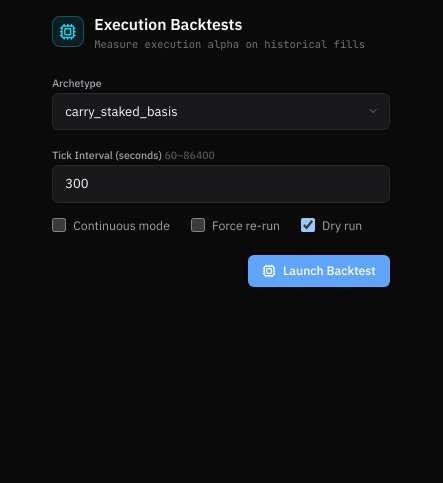
ExecutionBacktests › shows DRY RUN badge when result.dry_run is true
Click the button with test id "launch-button" at (319, 271), box [248, 255, 390, 286]
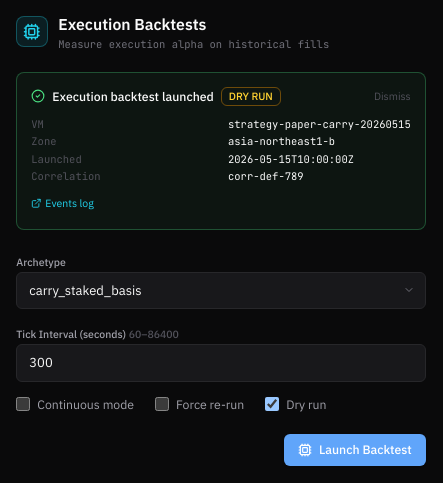
Expected: the text "DRY RUN" is shown, [221, 86, 281, 106]
